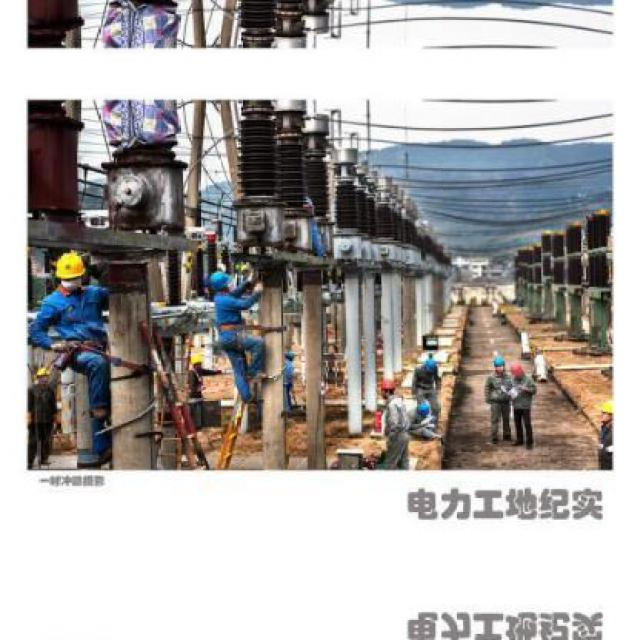hat: (55, 253, 87, 282), (210, 270, 233, 293), (377, 377, 401, 394), (413, 401, 433, 417), (597, 400, 613, 417), (423, 358, 440, 373), (508, 364, 526, 378), (492, 353, 506, 367)
